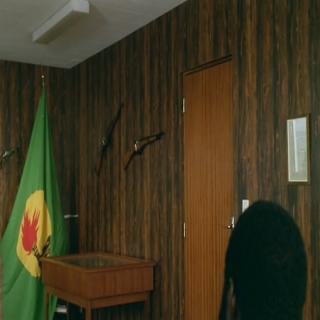gun: (91, 102, 123, 173), (122, 132, 166, 170)
